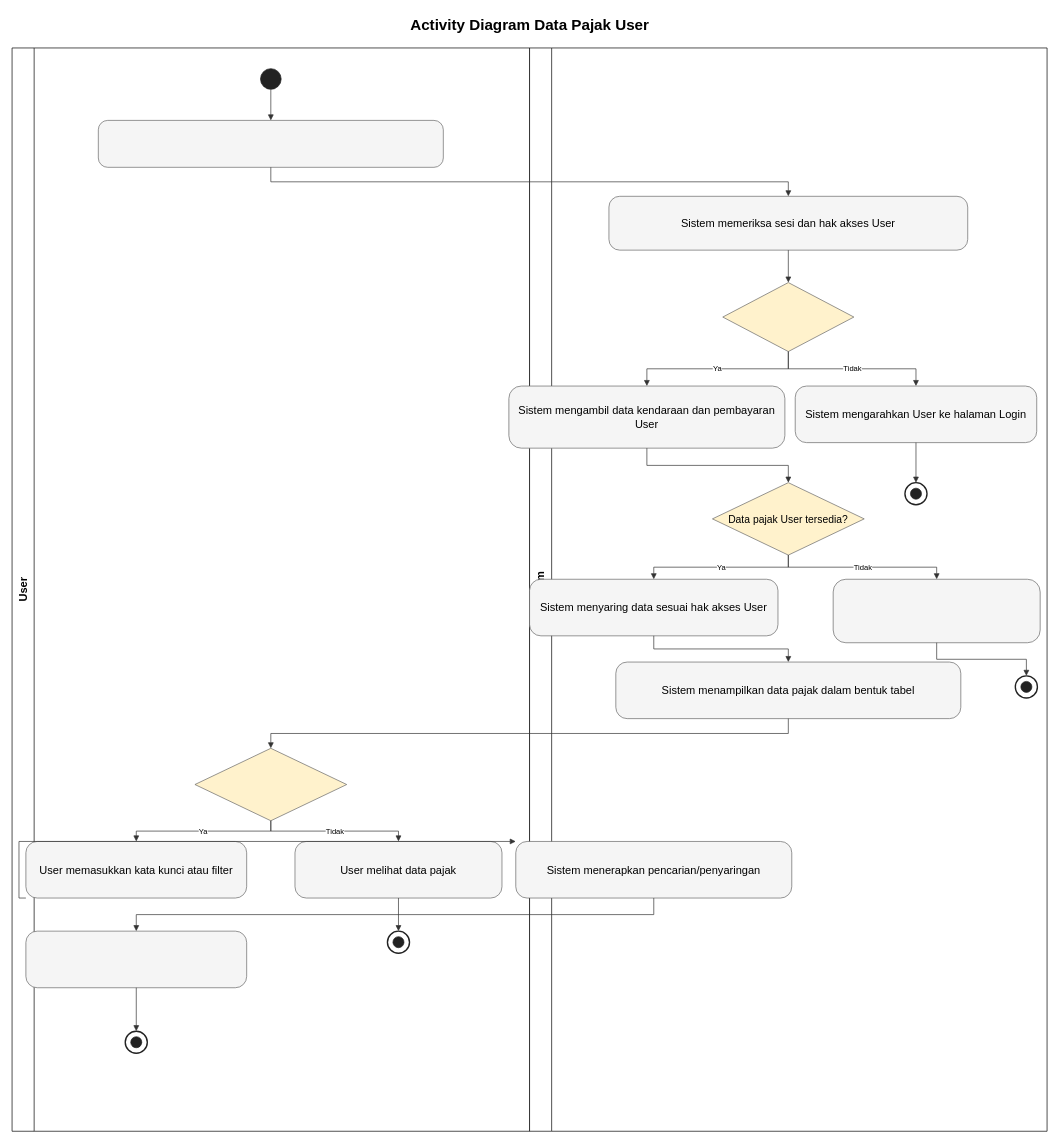
Some shapes in this 1059 by 1143 pixel diagram are drawn without their labels. Here are the shapes that lost their labels. From the top down, the centre of each, then its label:
At pixel 270 143: "User membuka halaman Data Pajak".
At pixel 788 317: "Sesi valid?".
At pixel 936 611: "Sistem menampilkan pesan data pajak belum tersedia".
At pixel 270 784: "Perlu mencari atau menyaring data?".
At pixel 136 959: "User melihat hasil data tersaring".
